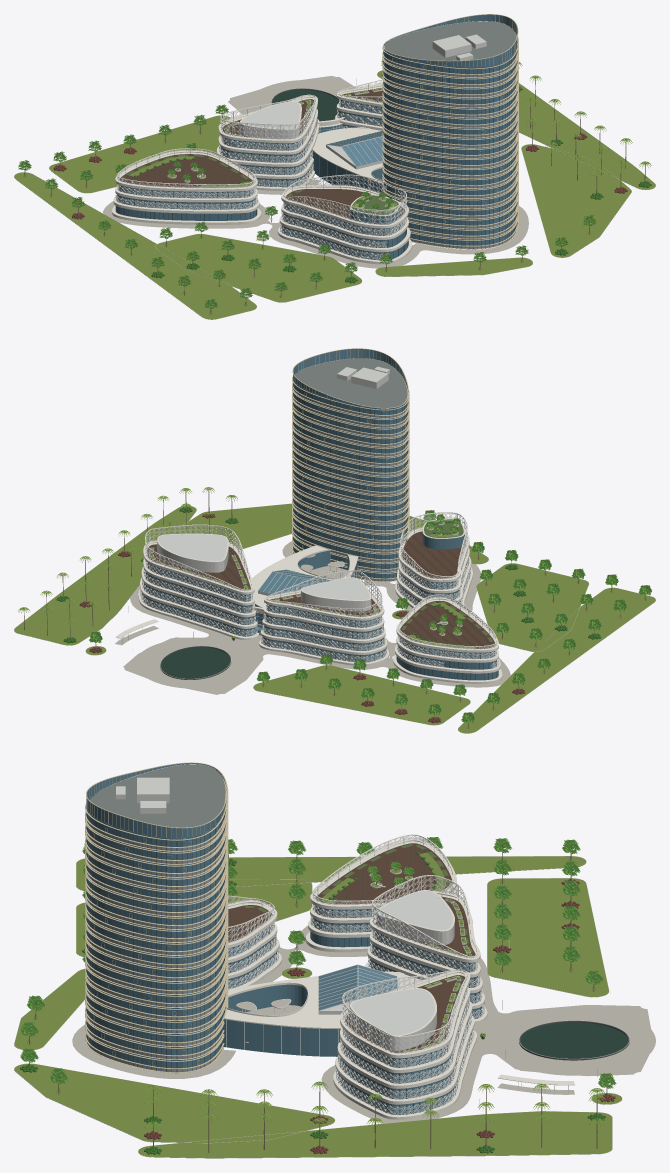
File: library-lod0.glb
3 renders of one model, top to bottom at view 1: azimuth 30°, elevation 25°; view 2: azimuth 150°, elevation 25°; view 3: azimuth 270°, elevation 25°, orthographic. The views are drawn at different scales.
Parts seen in each view (by area): view 1: Landscape connected lawns | landscape lawn, Tower horizontal fins | champagne fins, Tower glazing | blue grey glass light, Tower spandrel panels | grey spandrel, Tower glazing | blue grey glass, Landscape forecourt paving | warm limestone, Tower mullions | frame shadow, Tower glazing | blue grey glass dark, Landscape ground leaf canopy | leaf shadow, Petal right-garden | warm ceramic, Petal rear-garden | warm ceramic, Tower roof | roof gravel (+29 smaller); view 2: Landscape connected lawns | landscape lawn, Tower horizontal fins | champagne fins, Landscape forecourt paving | warm limestone, Tower glazing | blue grey glass light, Tower glazing | blue grey glass, Tower spandrel panels | grey spandrel, Landscape ground leaf canopy | leaf shadow, Petal front-right | blue grey glass, Tower mullions | frame shadow, Tower roof | roof gravel, Tower glazing | blue grey glass dark, Petal front-left | warm ceramic (+30 smaller); view 3: Landscape connected lawns | landscape lawn, Tower horizontal fins | champagne fins, Landscape forecourt paving | warm limestone, Tower glazing | blue grey glass light, Tower glazing | blue grey glass, Tower spandrel panels | grey spandrel, Tower mullions | frame shadow, Petal front-left | warm ceramic, Landscape ground leaf canopy | leaf shadow, Tower roof | roof gravel, Tower glazing | blue grey glass dark, Atrium | blue grey glass (+37 smaller).
Part boxes in pixels (left/top/right/bottom): Landscape connected lawns | landscape lawn: left=14, top=70, right=655, bottom=319; Tower horizontal fins | champagne fins: left=382, top=14, right=518, bottom=249; Tower glazing | blue grey glass light: left=383, top=14, right=517, bottom=245; Tower spandrel panels | grey spandrel: left=383, top=57, right=515, bottom=248; Tower glazing | blue grey glass: left=383, top=27, right=516, bottom=245; Landscape forecourt paving | warm limestone: left=103, top=76, right=528, bottom=268; Tower mullions | frame shadow: left=383, top=29, right=517, bottom=248; Tower glazing | blue grey glass dark: left=383, top=26, right=516, bottom=245; Landscape ground leaf canopy | leaf shadow: left=18, top=60, right=596, bottom=308; Petal right-garden | warm ceramic: left=112, top=150, right=261, bottom=224; Petal rear-garden | warm ceramic: left=277, top=185, right=412, bottom=264; Tower roof | roof gravel: left=384, top=21, right=516, bottom=60; Landscape connected lawns | landscape lawn: left=14, top=503, right=655, bottom=733; Tower horizontal fins | champagne fins: left=292, top=348, right=409, bottom=581; Landscape forecourt paving | warm limestone: left=115, top=541, right=510, bottom=694; Tower glazing | blue grey glass light: left=293, top=349, right=407, bottom=578; Tower glazing | blue grey glass: left=293, top=365, right=407, bottom=578; Tower spandrel panels | grey spandrel: left=293, top=389, right=407, bottom=581; Landscape ground leaf canopy | leaf shadow: left=89, top=510, right=651, bottom=722; Petal front-right | blue grey glass: left=262, top=604, right=385, bottom=662; Tower mullions | frame shadow: left=293, top=369, right=408, bottom=581; Tower roof | roof gravel: left=295, top=358, right=407, bottom=407; Tower glazing | blue grey glass dark: left=293, top=364, right=407, bottom=578; Petal front-left | warm ceramic: left=138, top=540, right=259, bottom=639; Landscape connected lawns | landscape lawn: left=14, top=856, right=621, bottom=1158; Tower horizontal fins | champagne fins: left=85, top=762, right=228, bottom=1073; Landscape forecourt paving | warm limestone: left=72, top=894, right=655, bottom=1123; Tower glazing | blue grey glass light: left=86, top=763, right=225, bottom=1068; Tower glazing | blue grey glass: left=86, top=768, right=225, bottom=1068; Tower spandrel panels | grey spandrel: left=87, top=822, right=222, bottom=1072; Tower mullions | frame shadow: left=86, top=772, right=226, bottom=1071; Petal front-left | warm ceramic: left=333, top=970, right=476, bottom=1119; Landscape ground leaf canopy | leaf shadow: left=20, top=837, right=616, bottom=1088; Tower roof | roof gravel: left=90, top=764, right=225, bottom=827; Tower glazing | blue grey glass dark: left=86, top=779, right=226, bottom=1068; Atrium | blue grey glass: left=223, top=984, right=340, bottom=1056.
Bounding box in the file's own units: 218 × 84.16 × 197.
